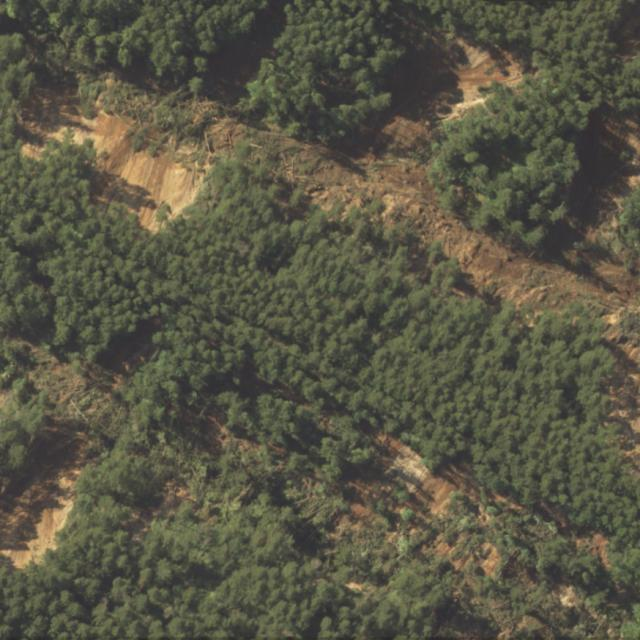landslide: (20, 31, 640, 317), (0, 319, 158, 569)
